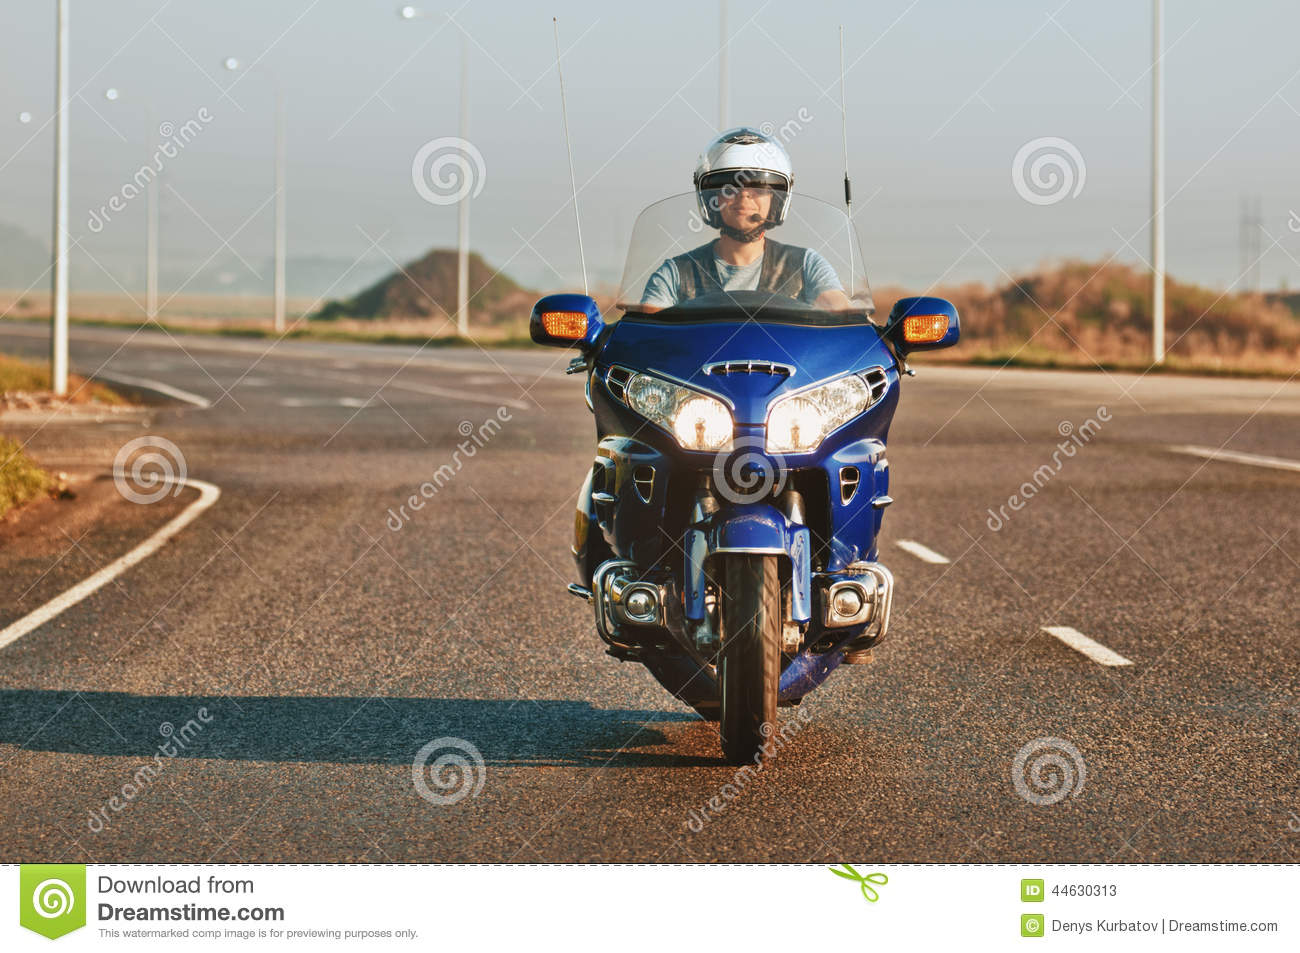helmet: (695, 130, 796, 218)
